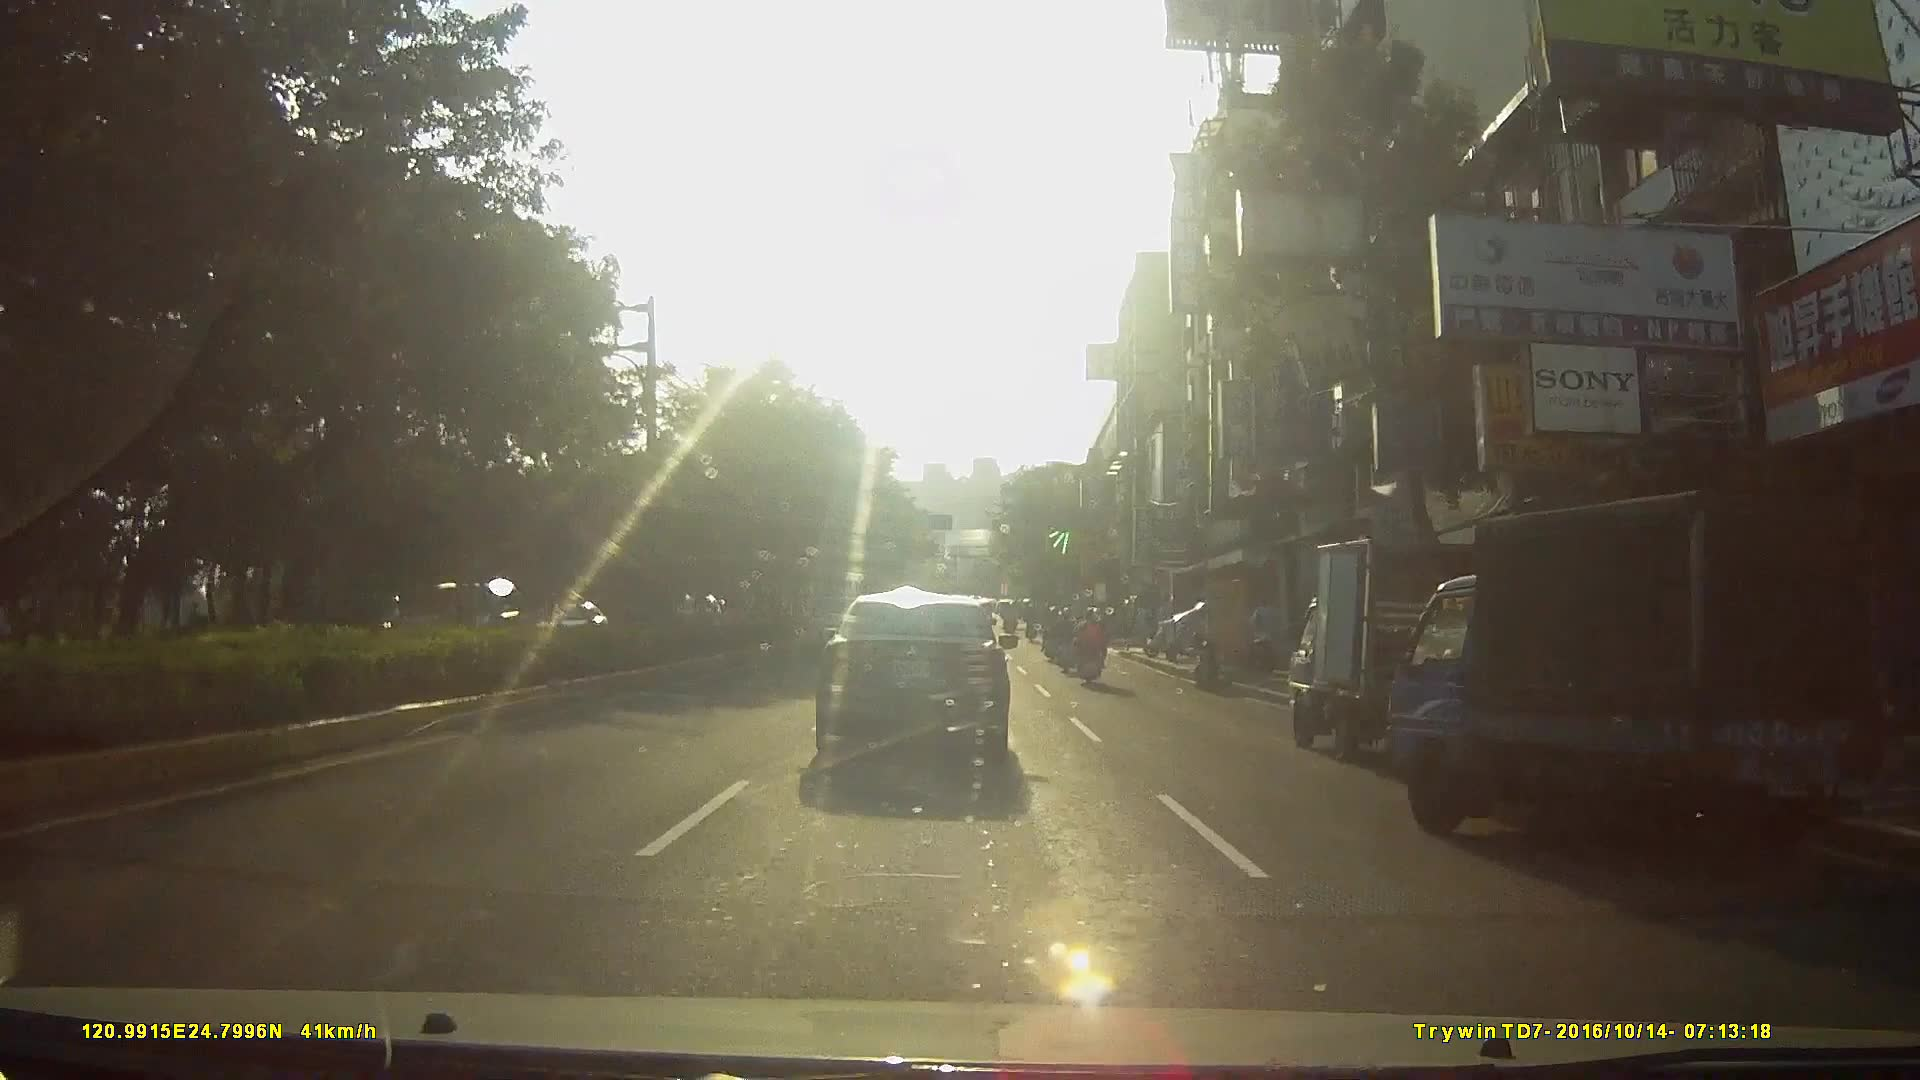rider: (1069, 608, 1111, 687), (1043, 606, 1063, 663)
vehicle: (1391, 486, 1893, 893), (1283, 523, 1547, 764), (812, 589, 1029, 788)
